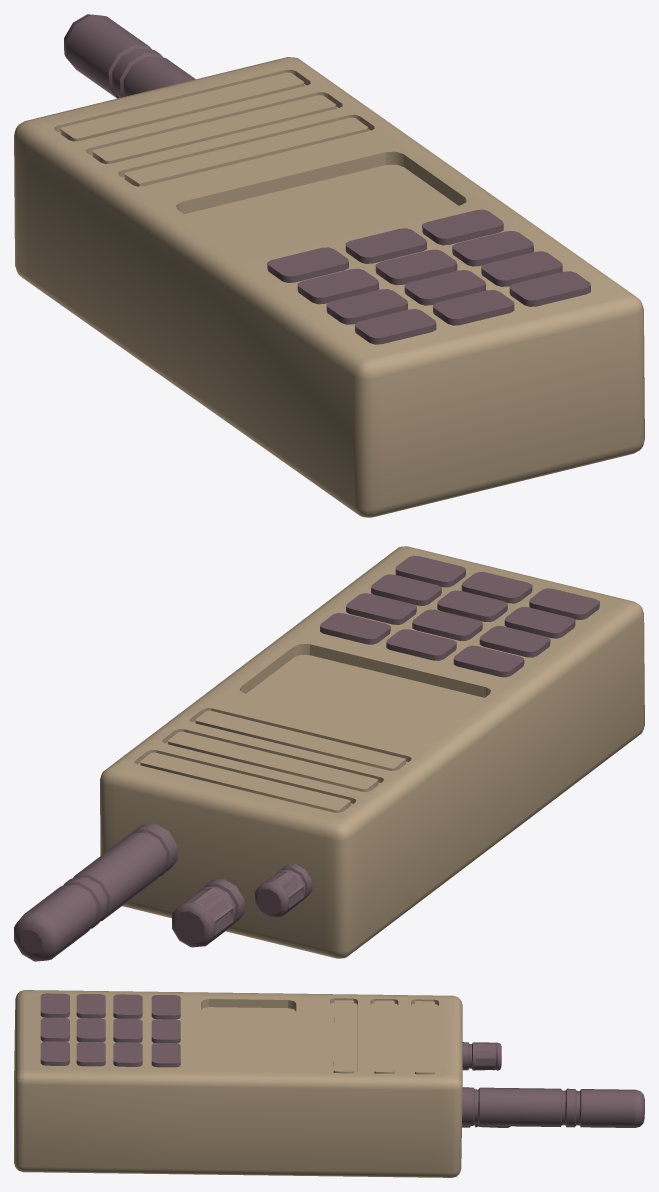
The model's file is RadioTransmitter.fbx.
3 renders of one model, top to bottom at view 1: azimuth 30°, elevation 25°; view 2: azimuth 150°, elevation 25°; view 3: azimuth 270°, elevation 25°, orthographic. The views are drawn at different scales.
Visible parts, largest first — view 1: Cube.086; view 2: Cube.086; view 3: Cube.086.
Part boxes in pixels (bbox=[...]): Cube.086: bbox=[14, 14, 644, 517]; Cube.086: bbox=[14, 546, 644, 961]; Cube.086: bbox=[14, 990, 644, 1177].
Bounding box in the file's own units: 28.29 × 16.04 × 84.41.
